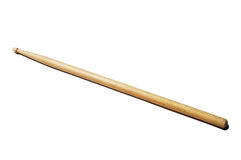straight_bar: (8, 42, 232, 132)
